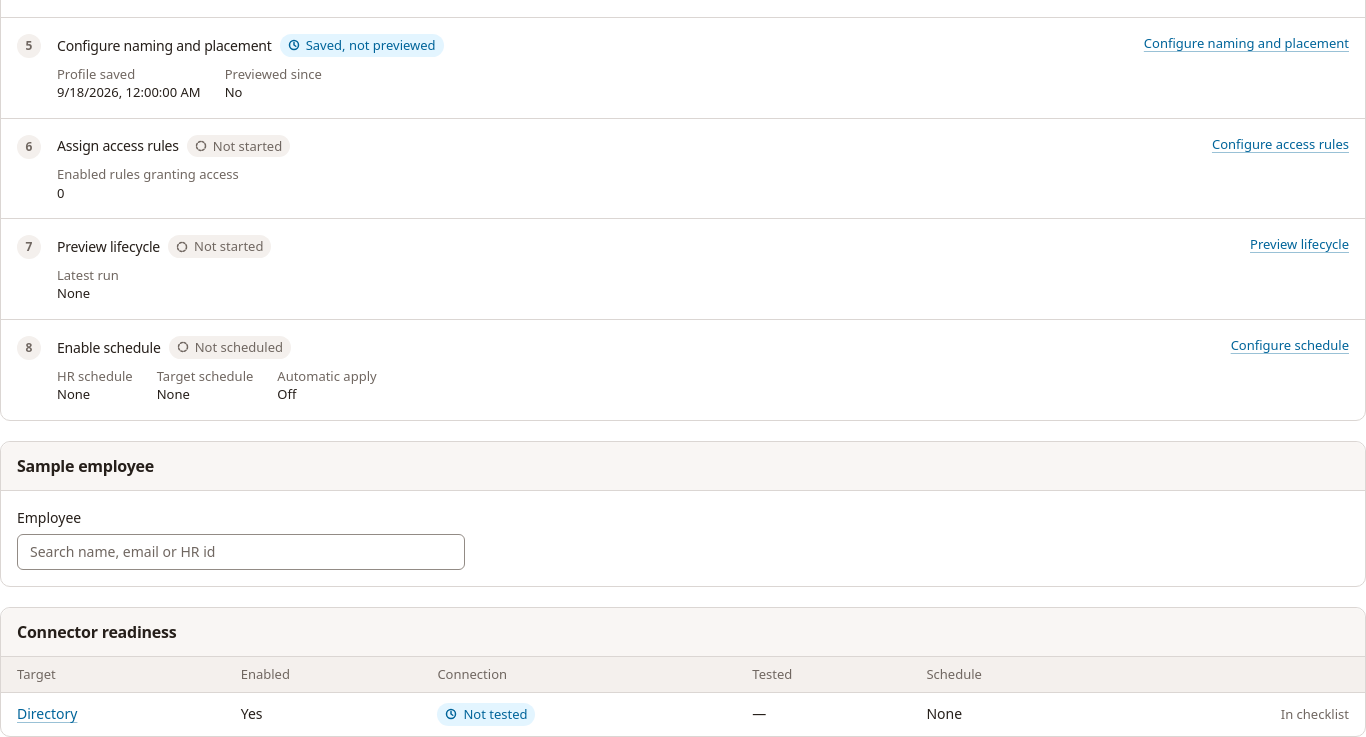
it: marks the sample step inspected once a searched employee’s contracts are read
The image size is (1366, 737).
(page scrolled)
Step 1. Type "oka" into the dropdown labelled "Employee" → (241, 552), box [17,534,465,570]
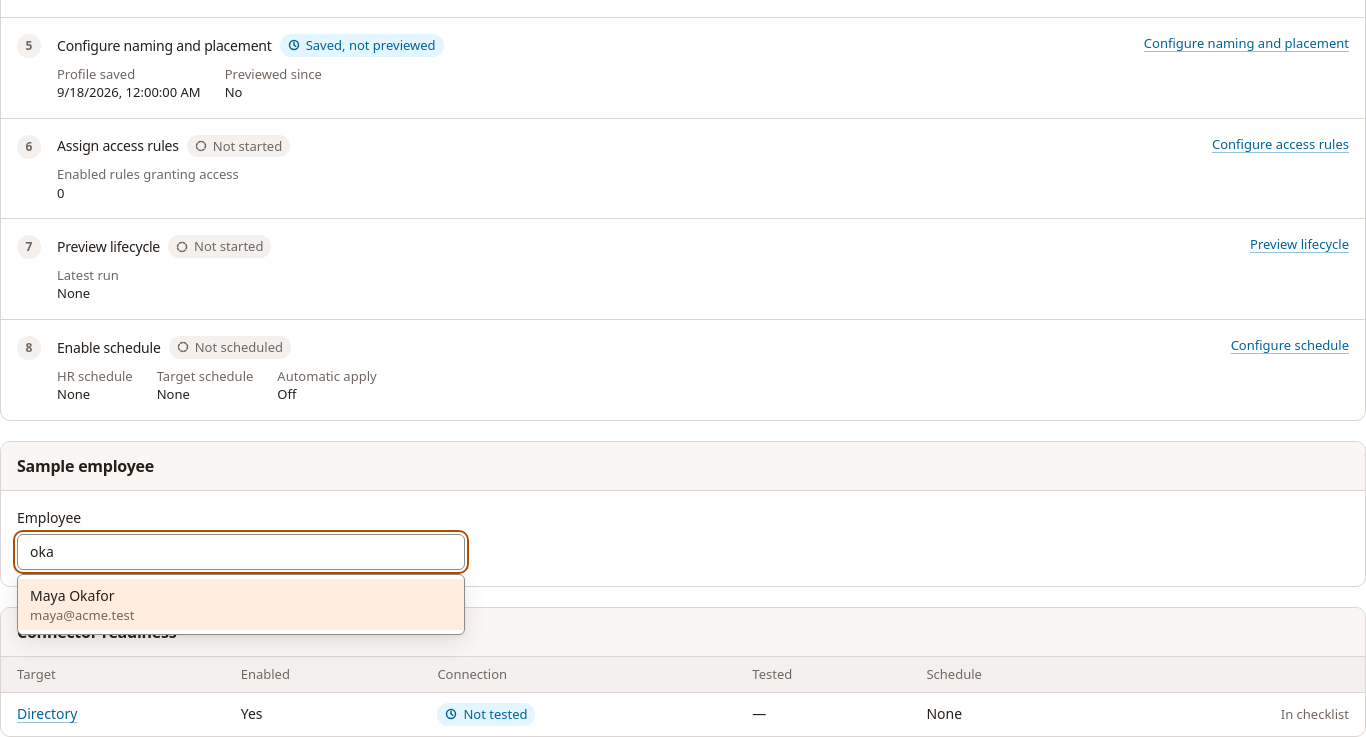
Step 2. Click the option "Maya Okafor maya@acme.test" → (72, 595), box [18,579,464,630]
(page scrolled)
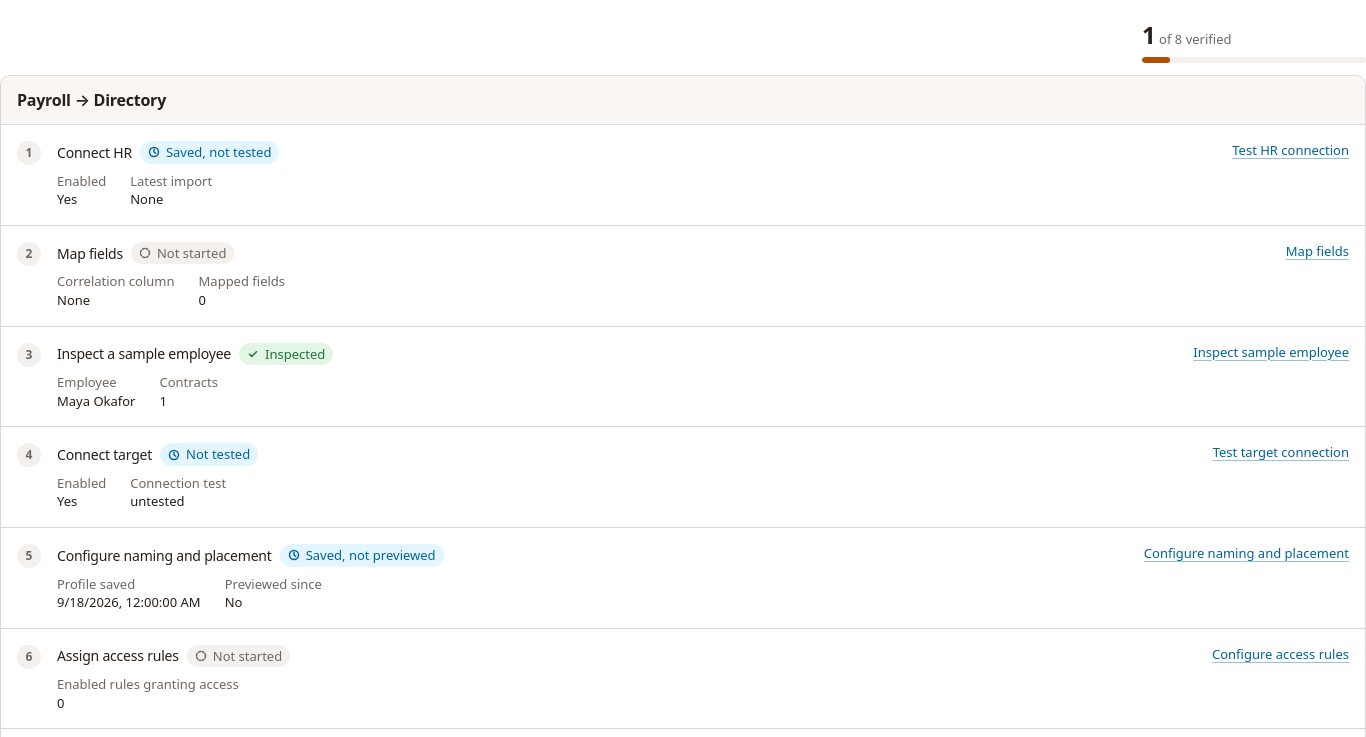
Result: the text "Inspected" is shown at [239,343,333,365]
